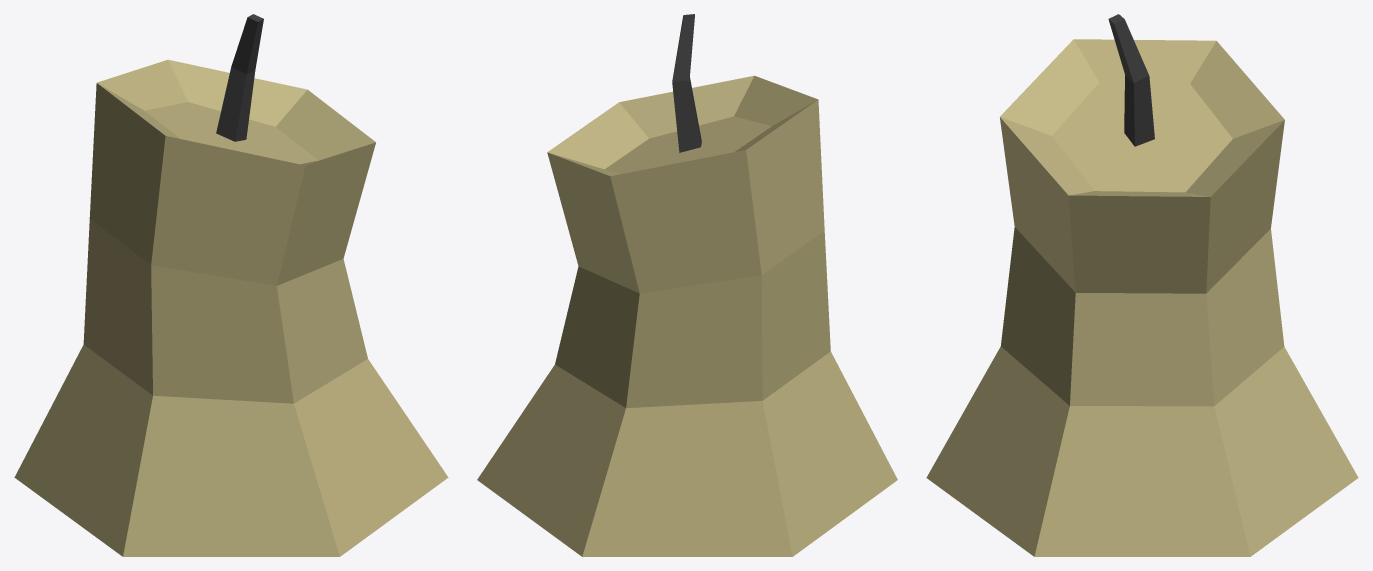
The model's file is candle_2.fbx.
3 views of the same model, side by side, from view 1: azimuth 30°, elevation 25°; view 2: azimuth 150°, elevation 25°; view 3: azimuth 270°, elevation 25° (orthographic). The views are drawn at different scales.
Parts seen in each view (by area): view 1: candle_2; view 2: candle_2; view 3: candle_2.
Boxes of the visible parts, box(x1,y1,x2,y2) form: candle_2: box(14, 14, 448, 556); candle_2: box(477, 14, 897, 556); candle_2: box(926, 14, 1358, 556).
Size of the model in its own units: 17.11 by 23.5 by 19.76.
